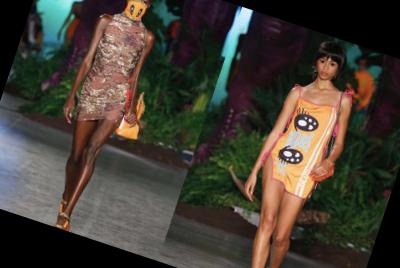without_mask: (313, 55, 341, 84)
